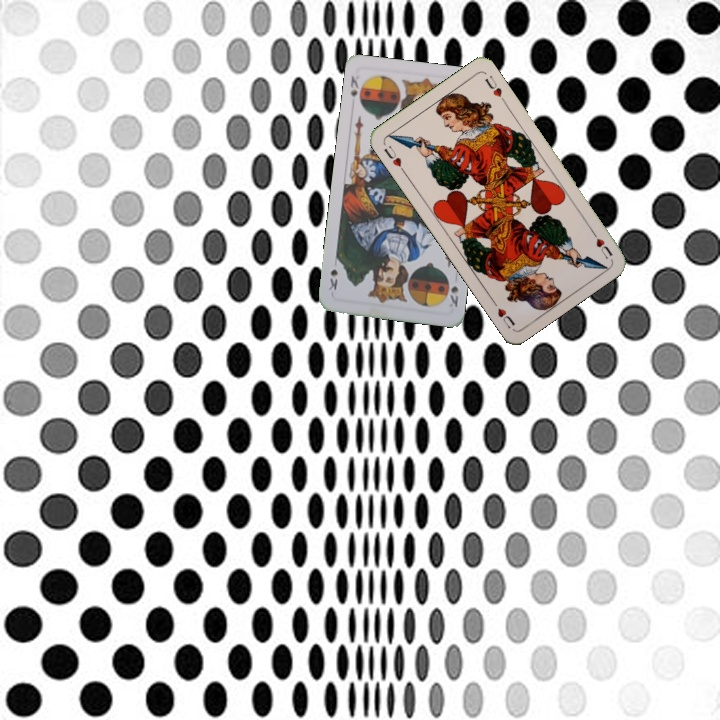HU: (587, 226, 615, 262), (380, 141, 408, 175)
SK: (346, 72, 362, 101), (445, 282, 461, 310)
